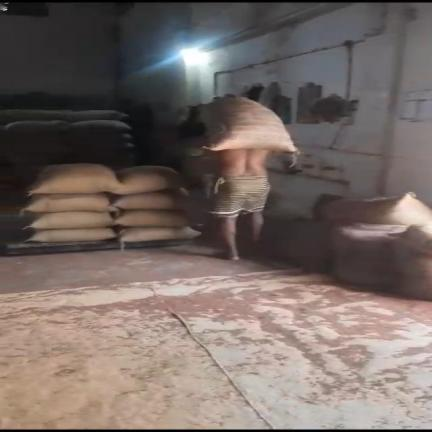Zone-Counting: (200, 97, 297, 260)
